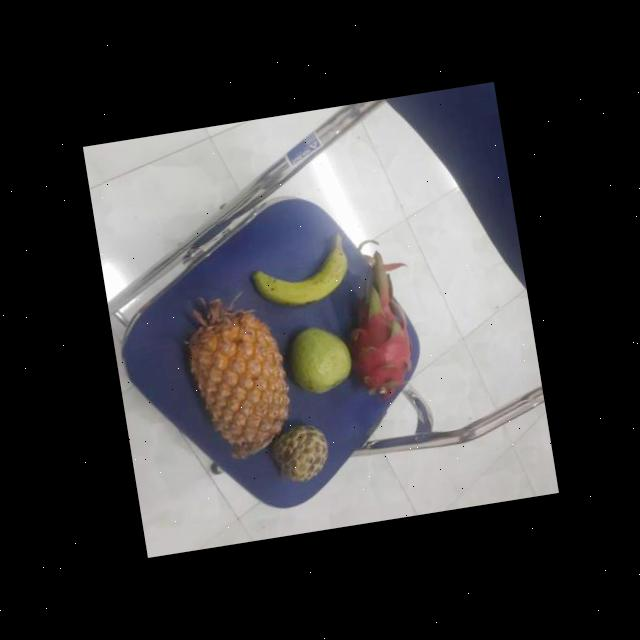Sakya fruit: (267, 416, 331, 486)
banana: (251, 238, 352, 313)
guava: (285, 321, 357, 401)
pineapple: (182, 300, 296, 458)
pitaya: (334, 279, 422, 403)
